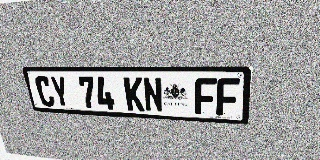4: (94, 77, 115, 110)
7: (77, 76, 98, 109)
C: (34, 76, 56, 107)
F: (216, 78, 240, 116), (195, 78, 216, 115)
K: (124, 77, 145, 111)
N: (142, 77, 163, 112)
Y: (49, 76, 71, 108)
